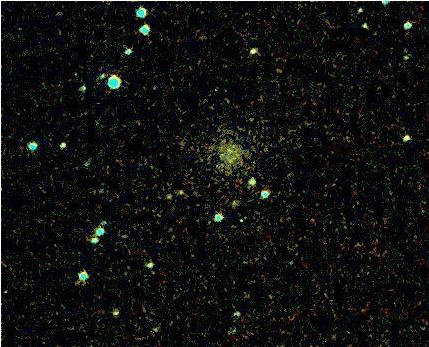star: (229, 209, 259, 239)
